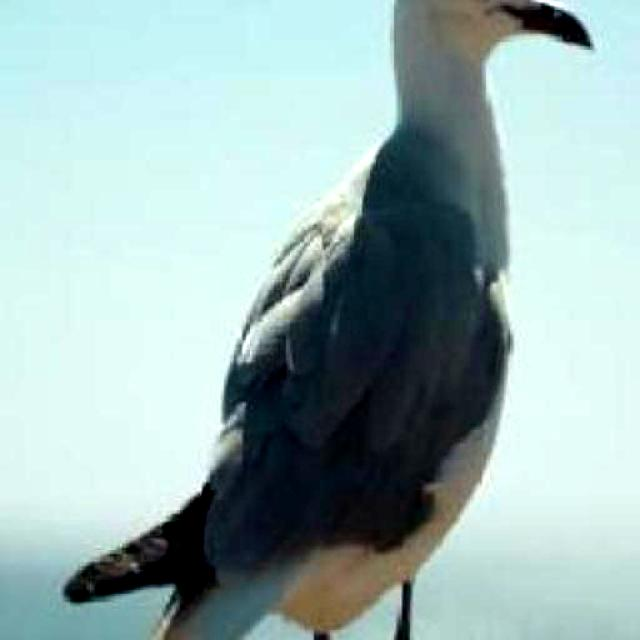airplane: (64, 0, 600, 640)
